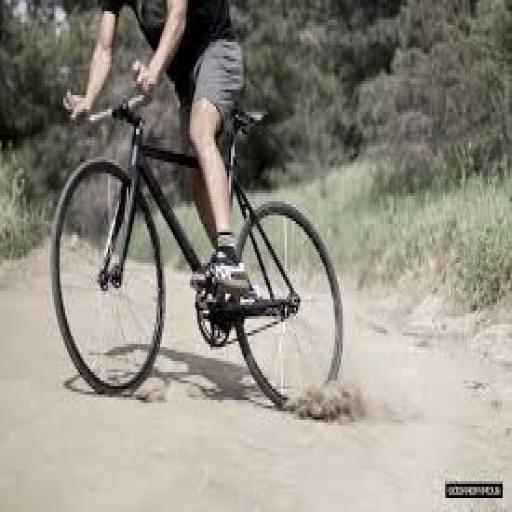cycling: (62, 0, 260, 308)
